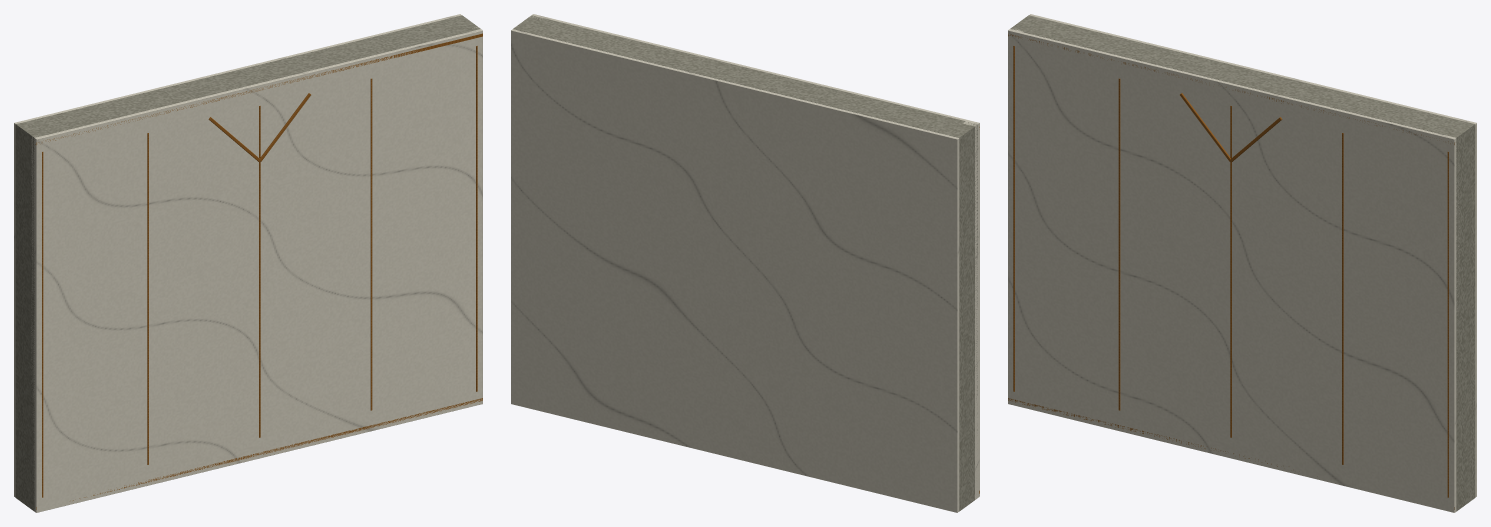
The picture shows the model from 3 angles, left to right: view 1: azimuth 30°, elevation 25°; view 2: azimuth 150°, elevation 25°; view 3: azimuth 330°, elevation 25°; orthographic projection.
Visible parts, largest first — view 1: Replaceable marble facing panel, Bearing masonry wall segment, Replaceable marble facing panel.001, Continuous bronze wall seat, Fluted edge pilaster, Shallow vertical facing relief.002, Continuous bronze wall seat.001, Bronze edge relief, Bronze edge relief.001, Shallow vertical facing relief, Shallow vertical facing relief.001; view 2: Replaceable marble facing panel.001, Bearing masonry wall segment, Fluted edge pilaster, Replaceable marble facing panel; view 3: Replaceable marble facing panel, Bearing masonry wall segment, Replaceable marble facing panel.001, Shallow vertical facing relief, Bronze edge relief, Bronze edge relief.001, Shallow vertical facing relief.002, Shallow vertical facing relief.001.
Part boxes in pixels (<box>): Replaceable marble facing panel: <box>34,29,482,512</box>; Bearing masonry wall segment: <box>15,15,480,511</box>; Replaceable marble facing panel.001: <box>14,14,461,497</box>; Continuous bronze wall seat: <box>36,398,482,509</box>; Fluted edge pilaster: <box>31,135,46,512</box>; Shallow vertical facing relief.002: <box>370,78,372,410</box>; Continuous bronze wall seat.001: <box>35,33,482,144</box>; Bronze edge relief: <box>42,152,43,497</box>; Bronze edge relief.001: <box>476,46,477,391</box>; Shallow vertical facing relief: <box>147,133,148,464</box>; Shallow vertical facing relief.001: <box>259,106,260,437</box>; Replaceable marble facing panel.001: <box>511,29,959,512</box>; Bearing masonry wall segment: <box>513,15,977,511</box>; Fluted edge pilaster: <box>963,120,979,499</box>; Replaceable marble facing panel: <box>533,14,979,496</box>; Replaceable marble facing panel: <box>1008,29,1456,512</box>; Bearing masonry wall segment: <box>1010,15,1475,511</box>; Replaceable marble facing panel.001: <box>1029,14,1476,497</box>; Shallow vertical facing relief: <box>1118,78,1120,410</box>; Bronze edge relief: <box>1013,46,1014,391</box>; Bronze edge relief.001: <box>1447,152,1448,497</box>; Shallow vertical facing relief.002: <box>1342,133,1343,464</box>; Shallow vertical facing relief.001: <box>1230,106,1231,437</box>.
Bounding box in the file's own units: 4 × 3.2 × 0.3615.
Materials: 3 (3 with a texture image).
